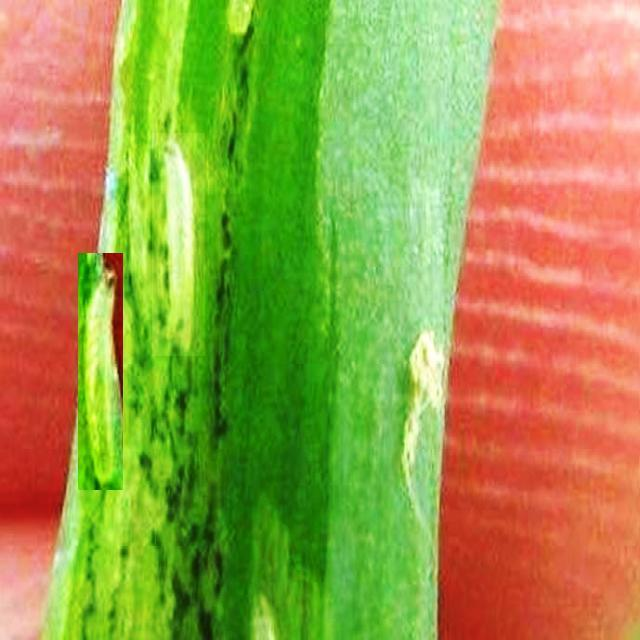whorl-maggot: (152, 133, 205, 356), (78, 253, 123, 490)
